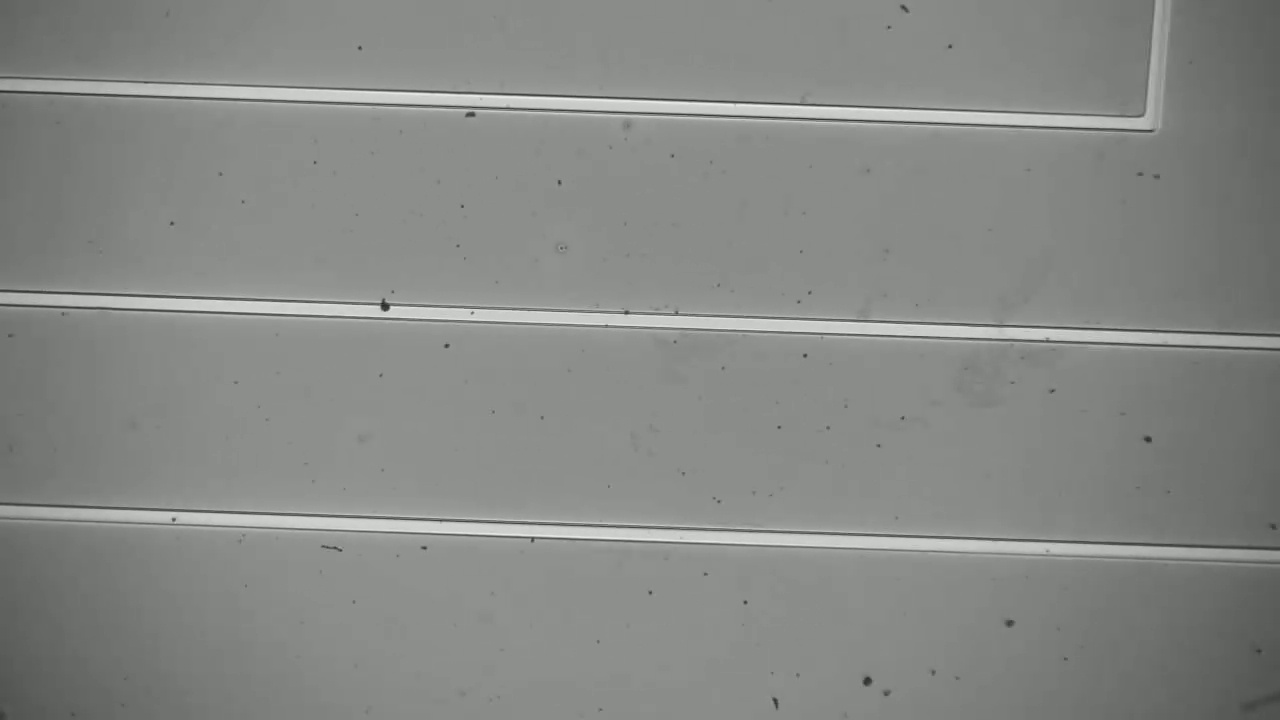stains_enbedded: (372, 293, 396, 328)
